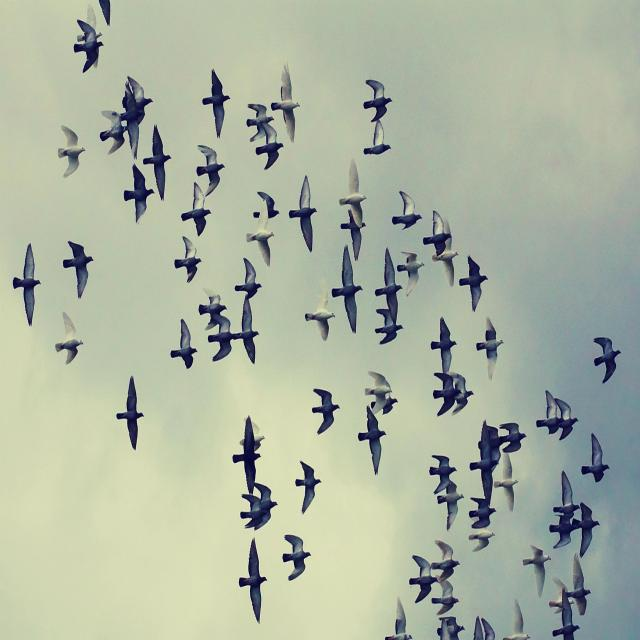pegion: (0, 214, 176, 478), (359, 258, 561, 463), (196, 404, 329, 602), (182, 58, 347, 164), (412, 486, 535, 618), (349, 78, 424, 172), (32, 118, 98, 179), (64, 25, 127, 69)
